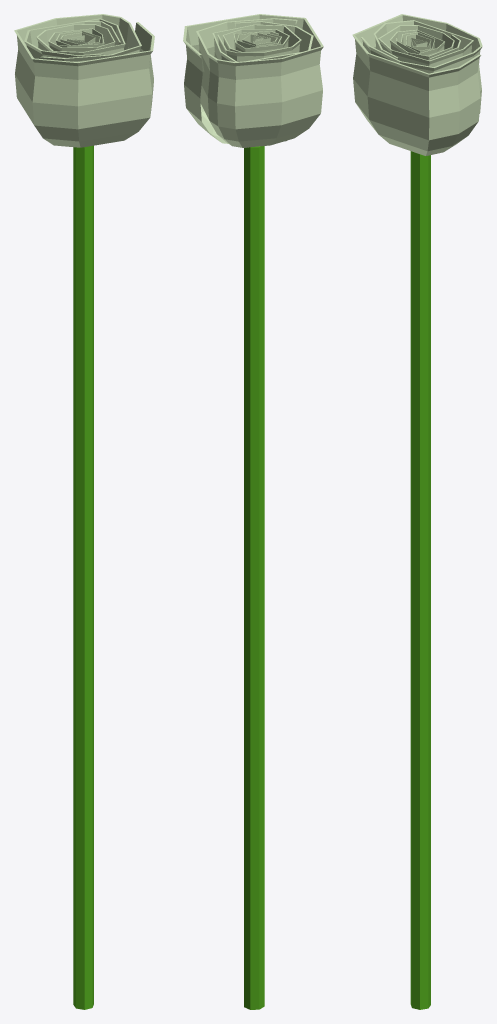
The model's file is rose_white.dae.
The picture shows the model from 3 angles, left to right: view 1: azimuth 30°, elevation 25°; view 2: azimuth 210°, elevation 25°; view 3: azimuth 330°, elevation 25°; orthographic projection.
Visible parts, largest first — view 1: Simple_GP_Layer; view 2: Simple_GP_Layer; view 3: Simple_GP_Layer.
Boxes of the visible parts, <box> form: Simple_GP_Layer: <box>14,14,154,1009</box>; Simple_GP_Layer: <box>183,14,323,1009</box>; Simple_GP_Layer: <box>352,14,482,1009</box>.
Size of the model in its own units: 1.29 by 1.1 by 10.11.
